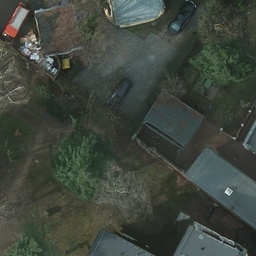car: (168, 1, 195, 35), (106, 78, 129, 114)
